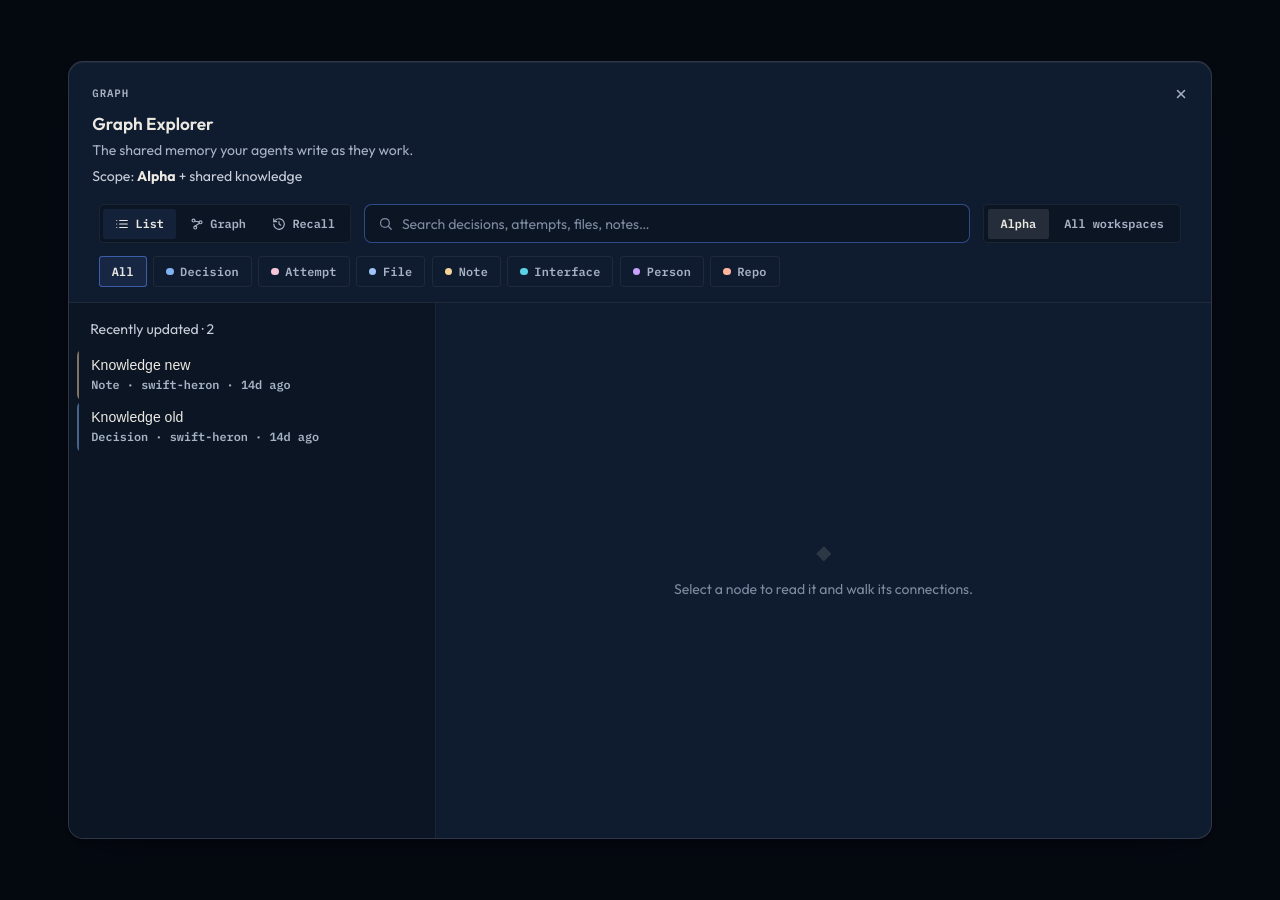
Scenario: contextual memory exploration › links a selected decision to observed recall evidence without claiming lifetime use
Click the button "Knowledge old Decision · swift-heron · 14d ago" at (252, 427), box [77,401,426,453]
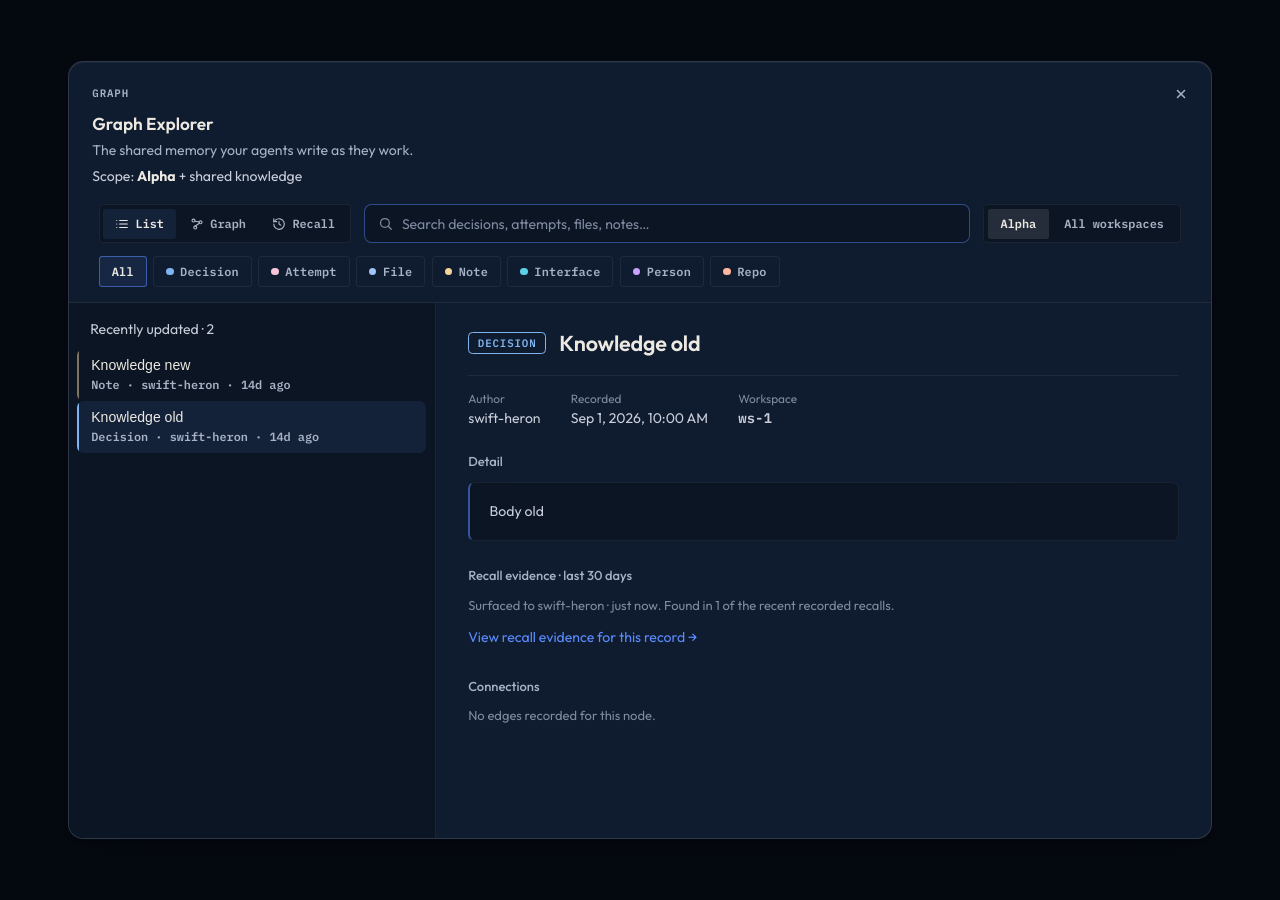
Check: the text "Surfaced to swift-heron" is shown, box [468,597,894,613]
Click the button "View recall evidence for this record →" at (583, 637), box [468,622,697,652]
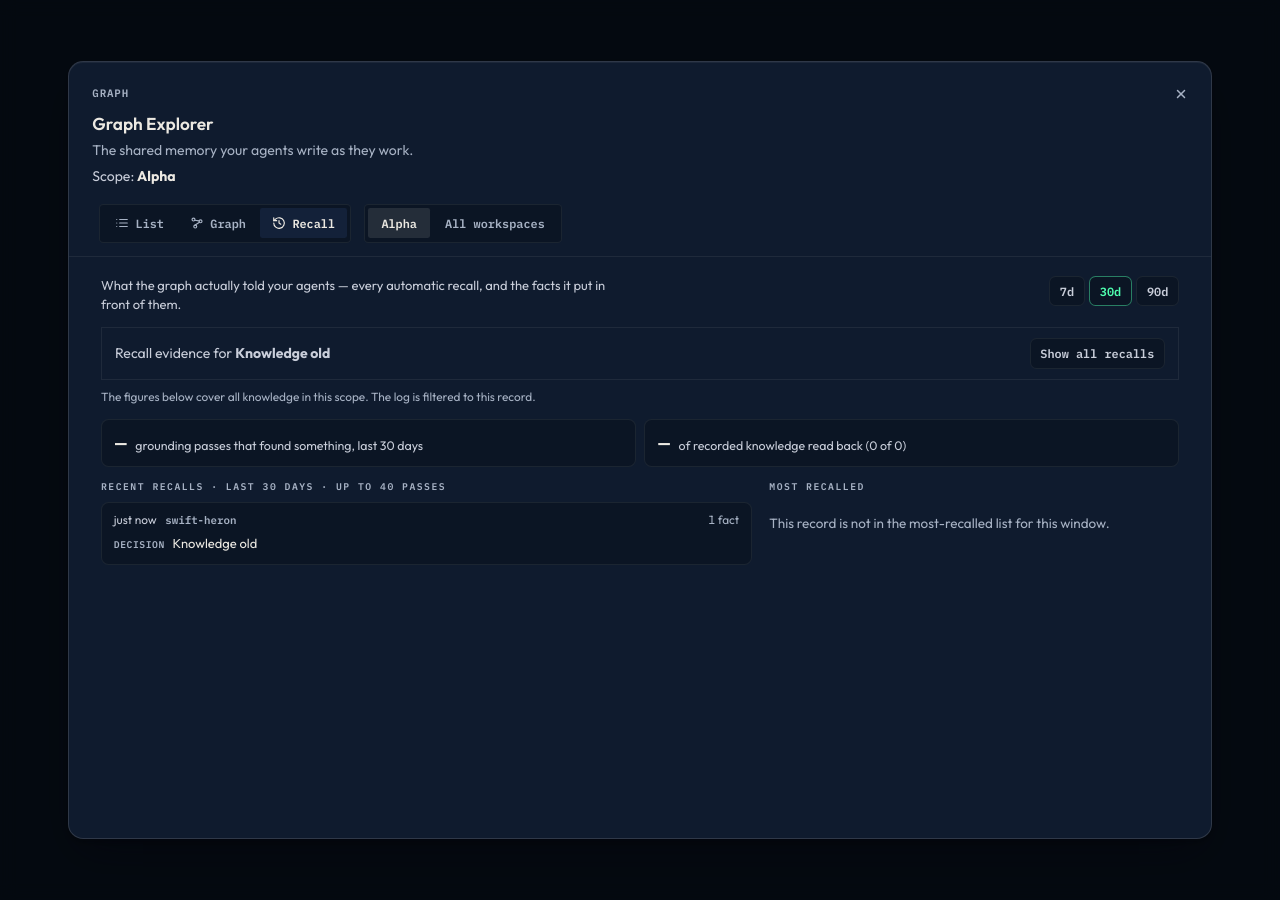
Check: the text "Recall evidence for Knowledge old" is shown, box [115,344,330,362]
Check: the button "Show all recalls" is shown, box [1030,338,1165,368]
